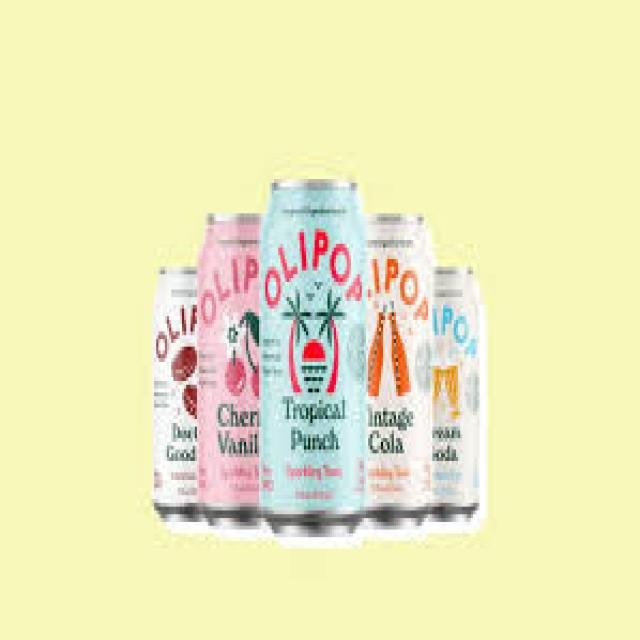Cans: (259, 164, 372, 548)
